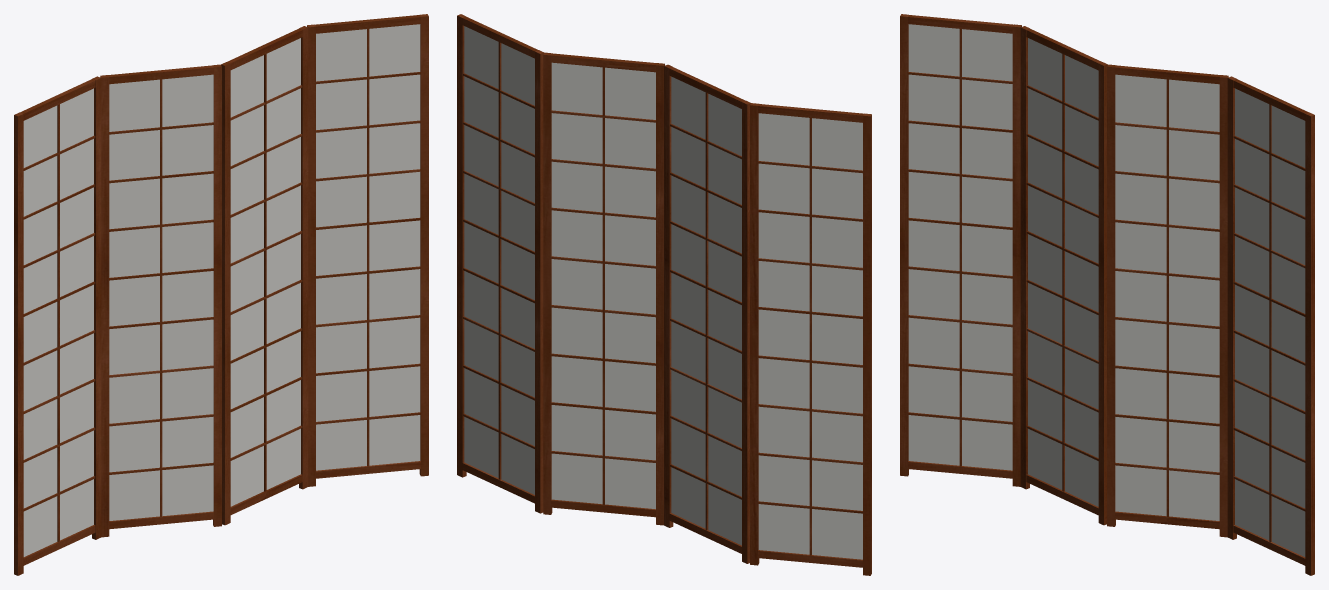
Rendered from sweethome3d-scopia-screen-150.glb.
3 renders of one model, left to right at view 1: azimuth 30°, elevation 25°; view 2: azimuth 150°, elevation 25°; view 3: azimuth 330°, elevation 25°, orthographic.
Visible parts, largest first — view 1: paper.001_Cube.013, paper.002_Cube.016, paper_Cube.003, paper.003_Cube.017, wood.001_Cube.014, wood.002_Cube.015, wood_Cube.001, wood.003_Cube.018; view 2: paper_Cube.003, paper.003_Cube.017, paper.002_Cube.016, paper.001_Cube.013, wood_Cube.001, wood.003_Cube.018, wood.002_Cube.015, wood.001_Cube.014; view 3: paper_Cube.003, paper.003_Cube.017, paper.002_Cube.016, paper.001_Cube.013, wood_Cube.001, wood.003_Cube.018, wood.002_Cube.015, wood.001_Cube.014.
Part boxes in pixels (left/top/right/bottom): paper.001_Cube.013: left=109, top=74, right=213, bottom=520; paper.002_Cube.016: left=316, top=24, right=420, bottom=470; paper_Cube.003: left=23, top=88, right=93, bottom=556; paper.003_Cube.017: left=230, top=38, right=300, bottom=506; wood.001_Cube.014: left=100, top=64, right=221, bottom=537; wood.002_Cube.015: left=307, top=14, right=428, bottom=486; wood_Cube.001: left=14, top=76, right=101, bottom=575; wood.003_Cube.018: left=221, top=26, right=308, bottom=525; paper_Cube.003: left=758, top=113, right=862, bottom=559; paper.003_Cube.017: left=551, top=62, right=655, bottom=509; paper.002_Cube.016: left=464, top=26, right=534, bottom=494; paper.001_Cube.013: left=671, top=76, right=741, bottom=545; wood_Cube.001: left=750, top=103, right=871, bottom=575; wood.003_Cube.018: left=543, top=52, right=664, bottom=525; wood.002_Cube.015: left=457, top=14, right=544, bottom=513; wood.001_Cube.014: left=664, top=64, right=750, bottom=563; paper_Cube.003: left=908, top=24, right=1012, bottom=470; paper.003_Cube.017: left=1115, top=74, right=1219, bottom=520; paper.002_Cube.016: left=1235, top=88, right=1305, bottom=556; paper.001_Cube.013: left=1028, top=38, right=1098, bottom=506; wood_Cube.001: left=900, top=14, right=1021, bottom=486; wood.003_Cube.018: left=1107, top=64, right=1228, bottom=537; wood.002_Cube.015: left=1227, top=76, right=1314, bottom=575; wood.001_Cube.014: left=1020, top=26, right=1107, bottom=525.
Bounding box in the file's own units: 178 × 189 × 15.84.
2 materials, 1 textured.
